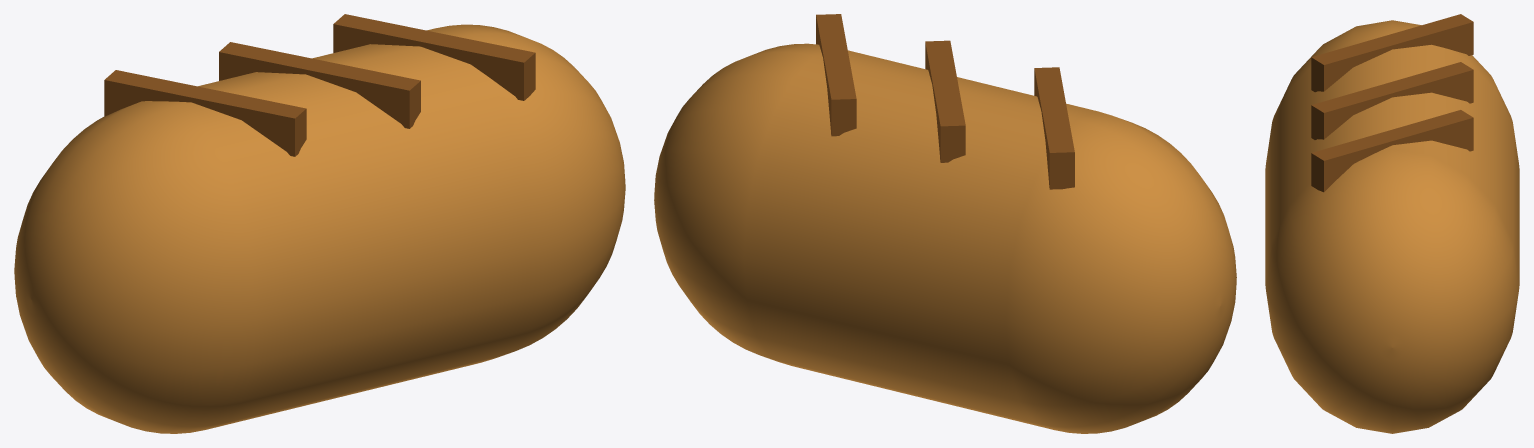
File: bread_loaf.glb
3 renders of one model, left to right at view 1: azimuth 30°, elevation 25°; view 2: azimuth 150°, elevation 25°; view 3: azimuth 270°, elevation 25°, orthographic. The views are drawn at different scales.
Visible parts, largest first — view 1: BreadLoaf; view 2: BreadLoaf; view 3: BreadLoaf.
Boxes of the visible parts, x1,y1,x2,y2 form: BreadLoaf: [14, 14, 625, 433]; BreadLoaf: [654, 14, 1236, 433]; BreadLoaf: [1265, 14, 1519, 433].
Size of the model in its own units: 1.26 by 0.67 by 0.561.
